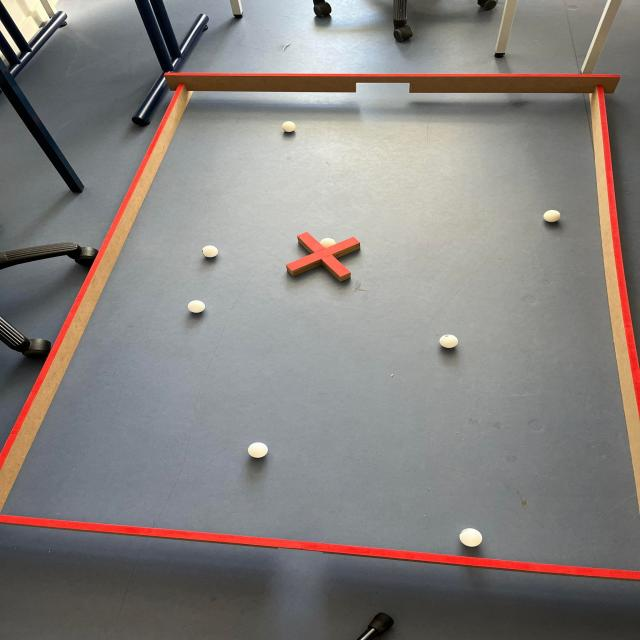white: (459, 527, 484, 548), (248, 442, 270, 461), (543, 208, 562, 224), (439, 334, 459, 349), (187, 300, 206, 312), (202, 244, 218, 258), (318, 236, 336, 246), (282, 120, 296, 132)
